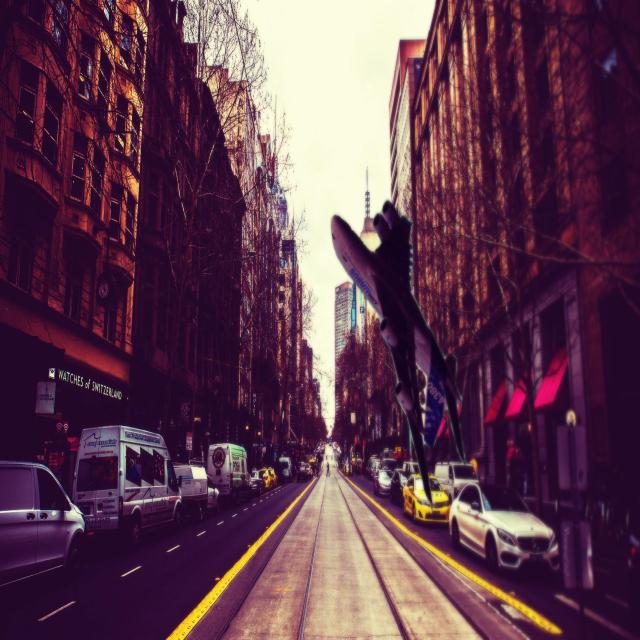airplane: (330, 198, 468, 502)
